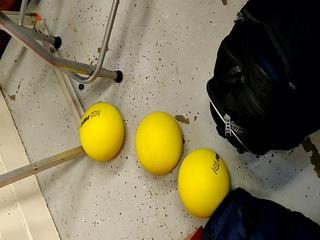power_cell: (71, 95, 128, 166), (126, 106, 182, 177), (174, 143, 230, 214)
